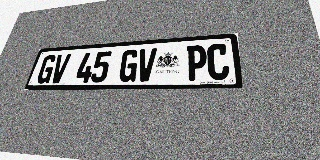4: (74, 52, 97, 83)
5: (90, 51, 112, 83)
C: (207, 43, 230, 80)
G: (118, 49, 139, 82), (35, 55, 58, 84)
P: (186, 45, 207, 81)
V: (136, 48, 157, 82), (49, 54, 71, 83)
